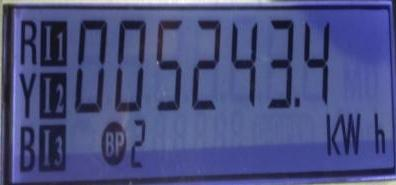.: (319, 112, 390, 157)
0: (292, 97, 304, 108)
1: (73, 18, 109, 112), (114, 20, 148, 113)
3: (190, 21, 225, 110)
4: (266, 17, 299, 110)
5: (300, 15, 336, 110), (229, 19, 261, 109)
6: (153, 20, 186, 110)
